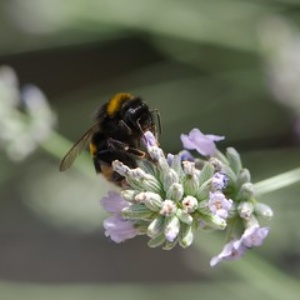bee: (59, 91, 166, 192)
